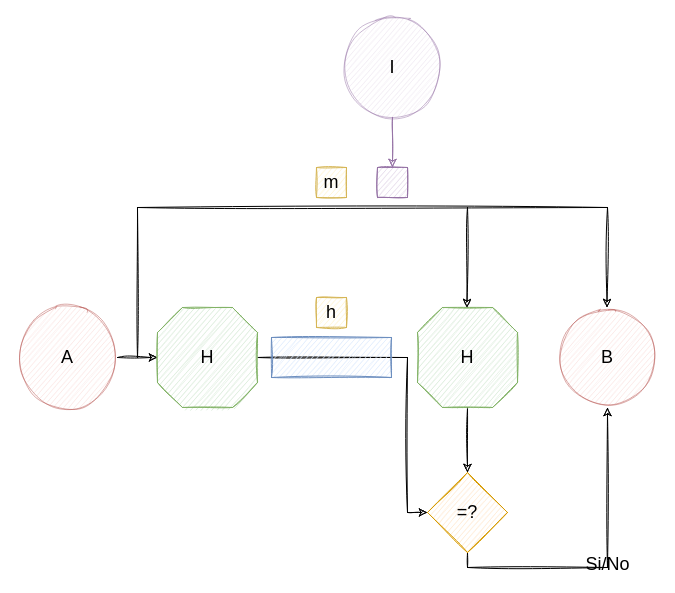
Some shapes in this 675 by 593 pixel diagram are drawn without their labels. The shapes that lost their labels are listed below. From the top down, each one's centre as x and y in pixels, then its label:
At (x=392, y=182): "m'".
At (x=331, y=357): "canale sicuro".
